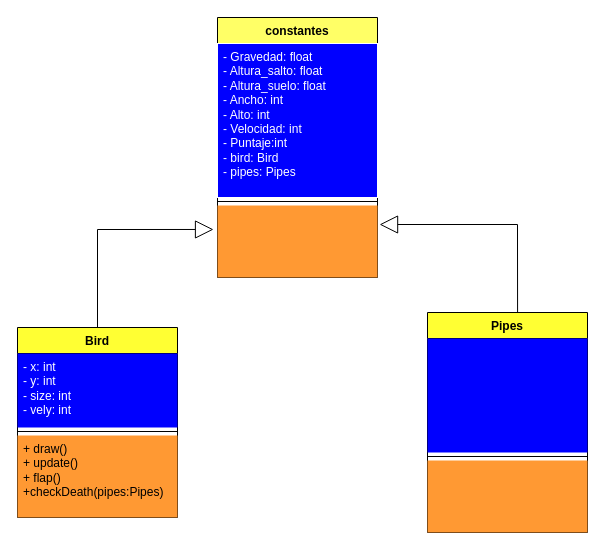
Some shapes in this 605 by 553 pixel diagram are drawn without their labels. The shapes that lost their labels are listed below. From the top down, each one's centre as x and y in pixels, then its label:
the point at 297,241: + setup() + draw() +mouseClicked()
the point at 507,395: - width: int - frequency: int - gap: int - pipes_list: Array
the point at 507,496: +update() +drawPipes()
